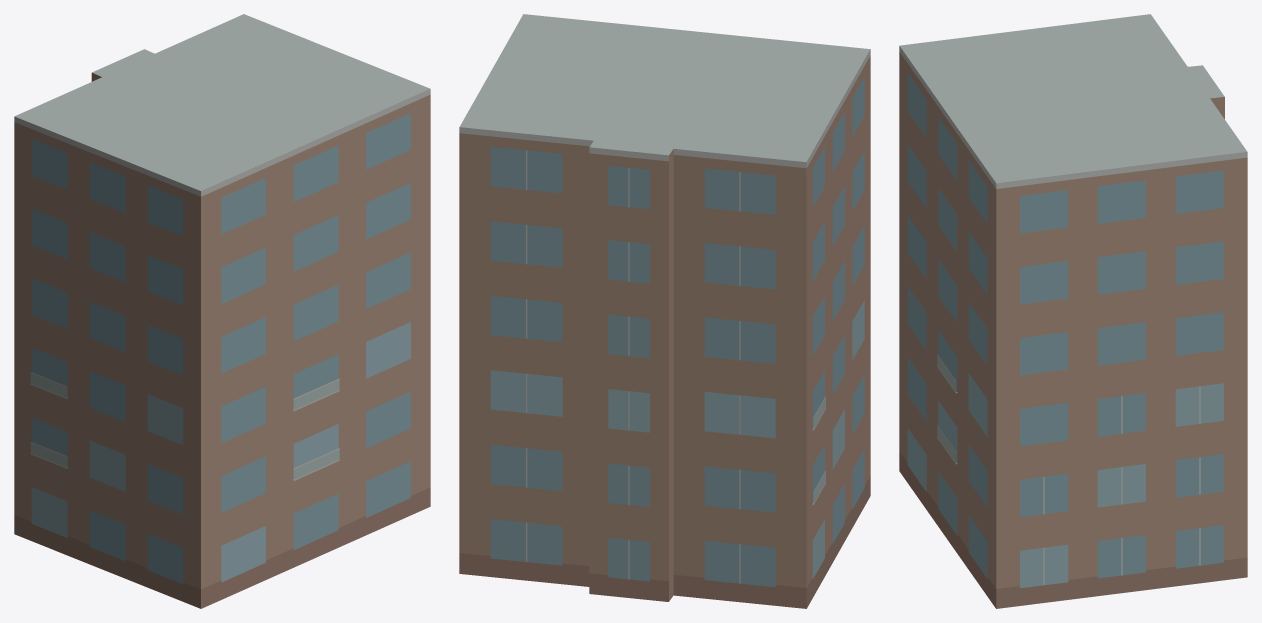
File: survey-upis-32735690.glb
The picture shows the model from 3 angles, left to right: view 1: azimuth 30°, elevation 25°; view 2: azimuth 150°, elevation 25°; view 3: azimuth 270°, elevation 25°; orthographic projection. The views are drawn at different scales.
Parts seen in each view (by area): view 1: survey-upis-32735690.tmp; view 2: survey-upis-32735690.tmp; view 3: survey-upis-32735690.tmp.
Part boxes in pixels (x1,y1,x2,y2): survey-upis-32735690.tmp: (14, 14, 430, 608); survey-upis-32735690.tmp: (459, 14, 870, 608); survey-upis-32735690.tmp: (899, 14, 1247, 608).
Bounding box in the file's own units: 15.42 × 18.05 × 13.39.
